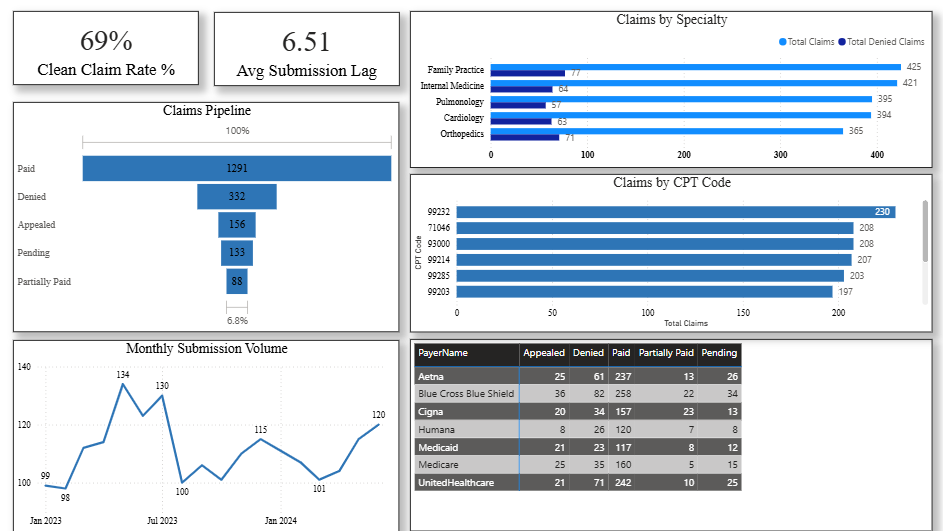

The page's visual inventory and layout, read from the dashboard file:
{"tool":"powerbi","page":{"name":"Claim Status Pipeline","canvas":[1280,720],"ordinal":3},"visuals":[{"type":"card","fields":{"Values":["Measures Table.Clean Claim Rate %"]},"box":[19.4,15.3,251.4,100],"z":0},{"type":"card","fields":{"Values":["Measures Table.Avg Submission Lag"]},"box":[290.5,15.9,250.8,100],"z":1000},{"type":"funnel","title":"Claims Pipeline","fields":{"Category":["Claims_Data.ClaimStatus"],"Y":["Measures Table.Total Claims"]},"box":[19,138.1,522.2,311.1],"z":2000},{"type":"lineChart","title":"Monthly Submission Volume","fields":{"Category":["Date_Table.YearMonth"],"Y":["Measures Table.Total Claims"]},"box":[19,459,522,261],"z":3000},{"type":"clusteredBarChart","title":"Claims by Specialty","fields":{"Y":["Measures Table.Total Claims","Measures Table.Total Denied Claims"],"Category":["Claims_Data.Specialty"]},"box":[555.4,15.4,706.2,212.3],"z":4000},{"type":"pivotTable","fields":{"Rows":["Claims_Data.PayerName"],"Columns":["Claims_Data.ClaimStatus"],"Values":["Measures Table.Total Claims"]},"box":[555.6,458.7,706.3,260.3],"z":5000},{"type":"clusteredBarChart","title":"Claims by CPT Code","fields":{"Category":["Claims_Data.CPTCode"],"Y":["Measures Table.Total Claims"]},"box":[555.3,235.1,706.4,213.8],"z":6000}]}

Visuals, with their boxes in screenshot pixels (x1, y1, x2, y2), scaled from the page's 1280x720 canvas onto the 943x531 screenshot:
card - Measures Table.Clean Claim Rate %: <bbox>14, 11, 200, 85</bbox>
card - Measures Table.Avg Submission Lag: <bbox>214, 12, 399, 85</bbox>
"Claims Pipeline" funnel: <bbox>14, 102, 399, 331</bbox>
"Monthly Submission Volume" lineChart: <bbox>14, 339, 399, 530</bbox>
"Claims by Specialty" clusteredBarChart: <bbox>409, 11, 929, 168</bbox>
pivotTable - Claims_Data.PayerName x Claims_Data.ClaimStatus: <bbox>409, 338, 930, 530</bbox>
"Claims by CPT Code" clusteredBarChart: <bbox>409, 173, 930, 331</bbox>
